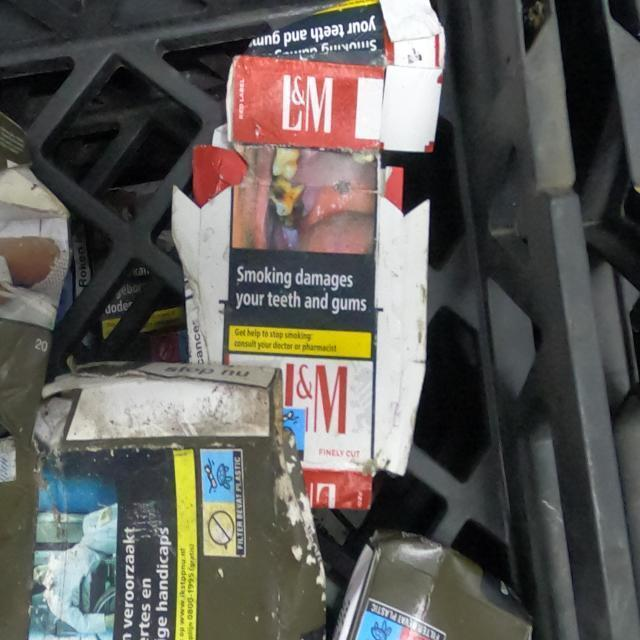Paper: (172, 0, 446, 515), (0, 358, 329, 640), (334, 527, 536, 640)
